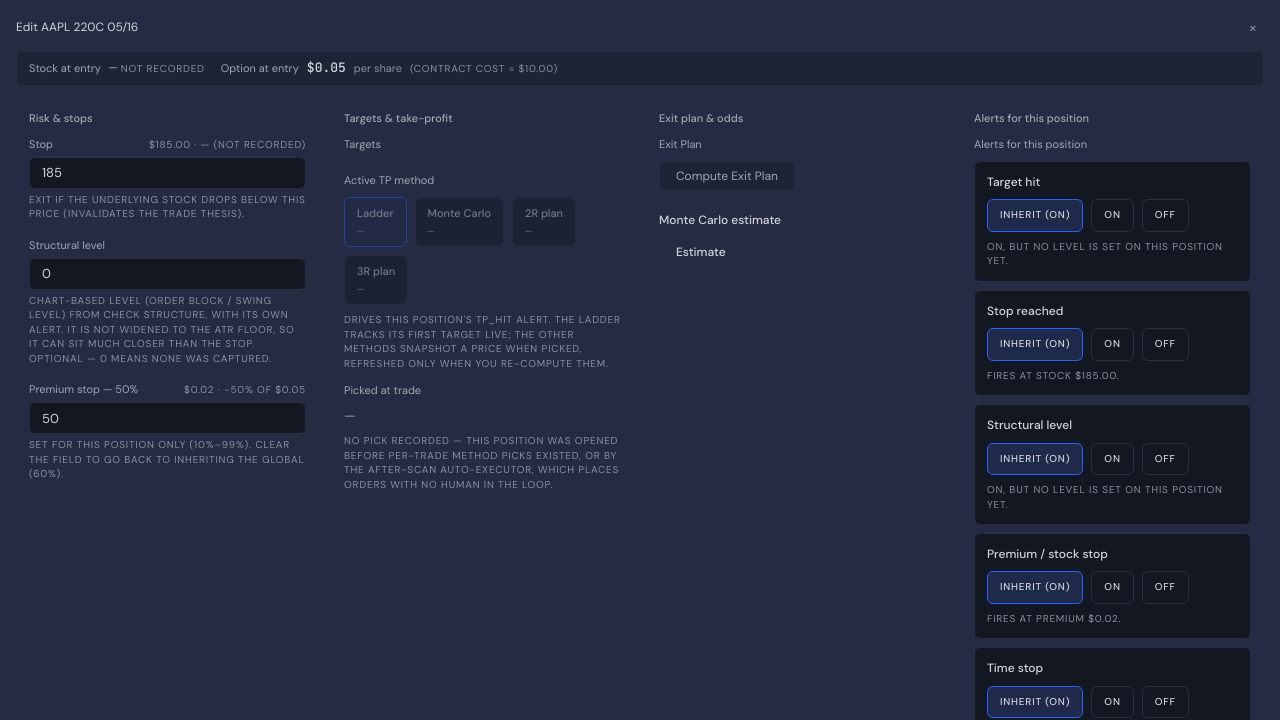
Test: STOP-SEMANTICS -- a short stock stop fires on a RISE; a sub-cent stop is refused › commit refuses a sub-cent stop with the reason and writes nothing
This screenshot has width=1280, height=720.
Replace the text in the field named "Premium stop percent" with "90": (168,418) [29,402,306,434]
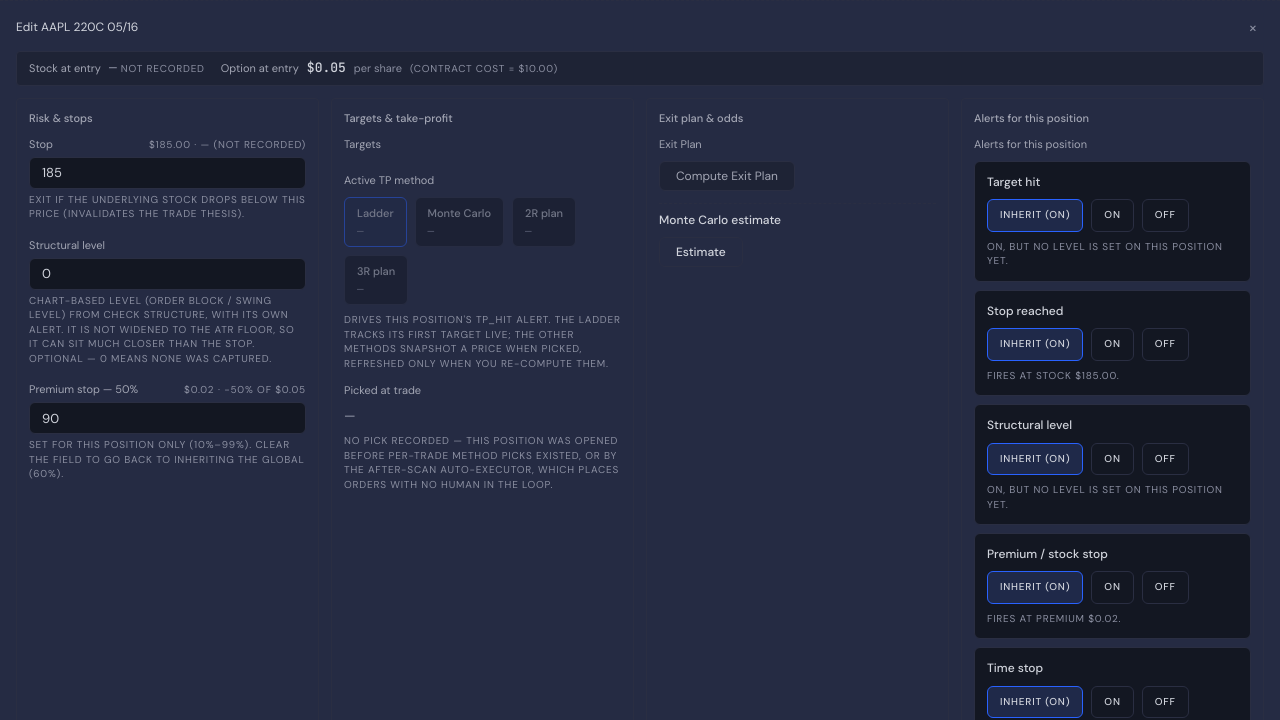
Leave the field named "Premium stop percent", box [29,402,306,434]
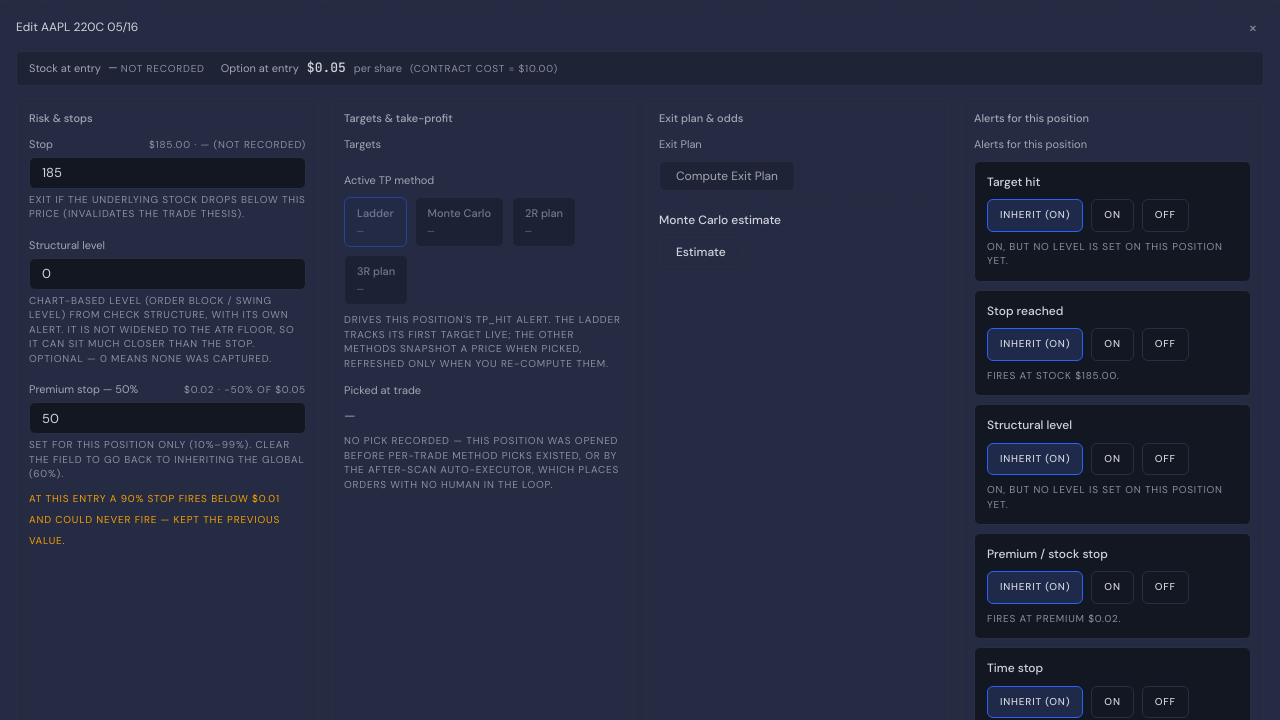
Expected: the text "At this entry a 90% stop fires below $0.01 and could never fire — kept the previous value." is shown, [29,492,280,547]
Expected: the field named "Premium stop percent" holds "50", [29,402,306,434]
